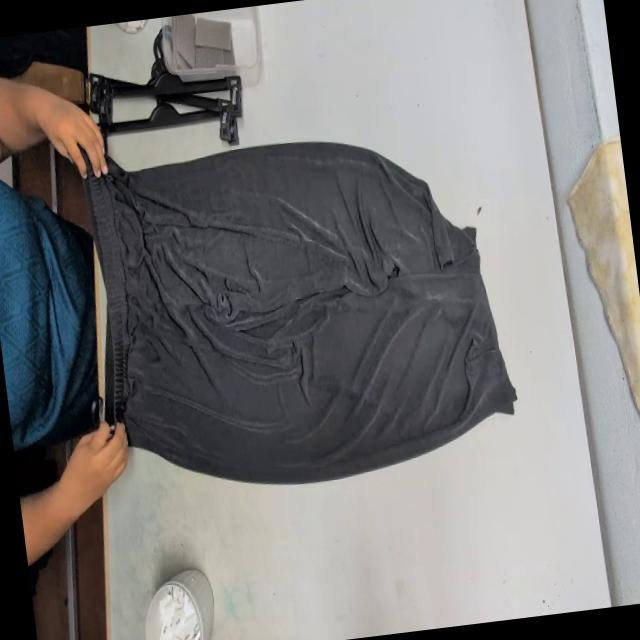new-garment: (85, 142, 515, 482)
